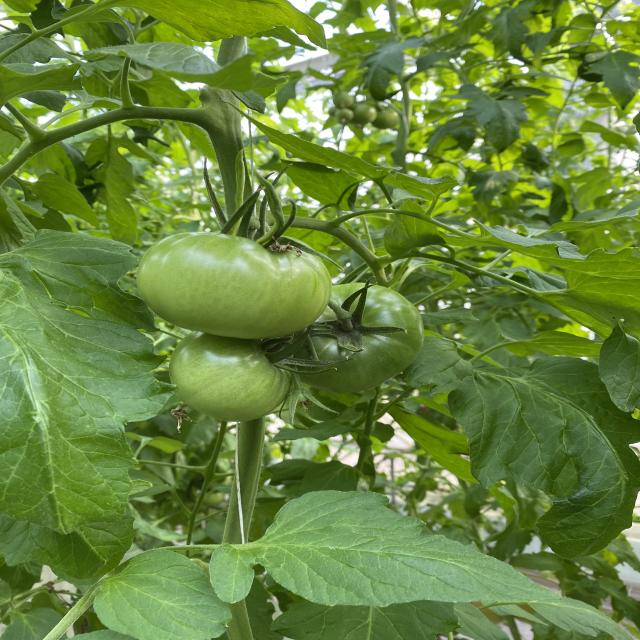yesil: (118, 211, 381, 443)
